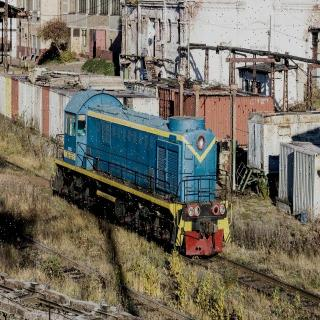poezd: (56, 84, 226, 255)
